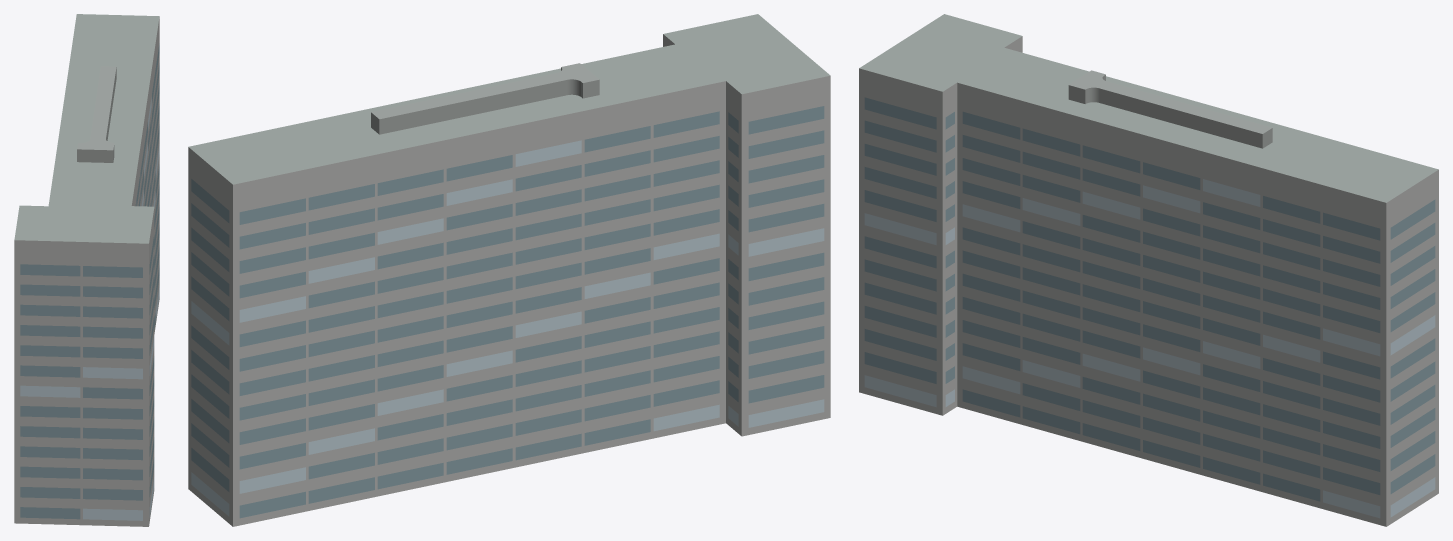
The model's file is apt-a15772901.glb.
3 views of the same model, side by side, from view 1: azimuth 30°, elevation 25°; view 2: azimuth 150°, elevation 25°; view 3: azimuth 270°, elevation 25° (orthographic). The views are drawn at different scales.
Visible parts, largest first — view 1: apt-a15772901; view 2: apt-a15772901; view 3: apt-a15772901.
Part boxes in pixels (x1,y1,x2,y2): apt-a15772901: [14, 14, 159, 526]; apt-a15772901: [188, 14, 830, 526]; apt-a15772901: [859, 14, 1438, 526].
Size of the model in its own units: 53.4 by 44.62 by 69.26.
